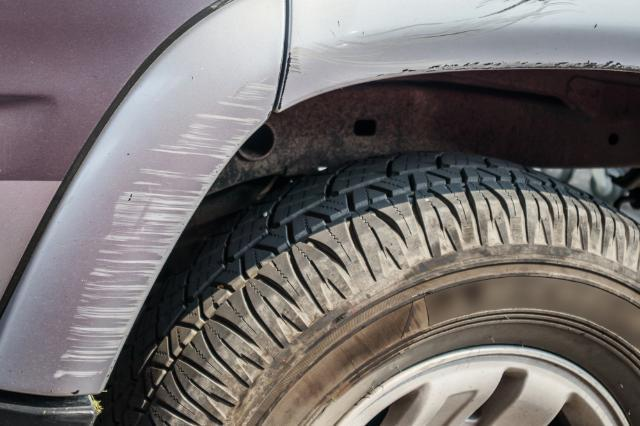scratch: (53, 68, 278, 386), (277, 0, 640, 110)
